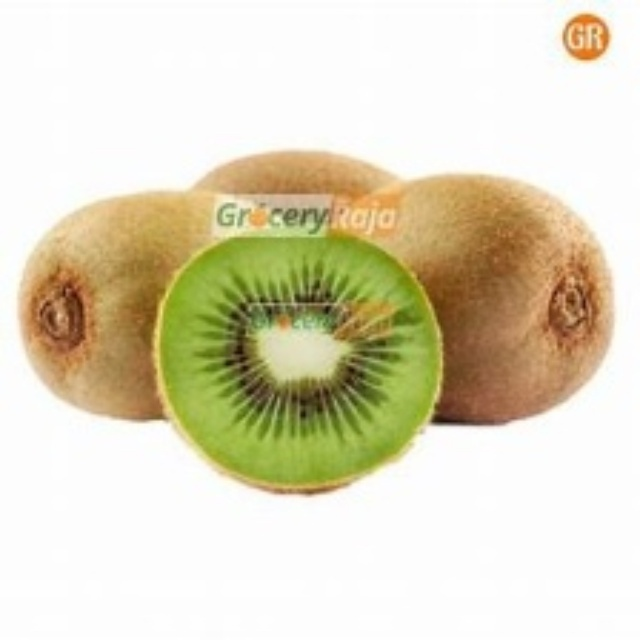kiwi: (159, 228, 433, 496), (360, 169, 612, 409), (26, 185, 253, 417), (198, 135, 405, 255)
